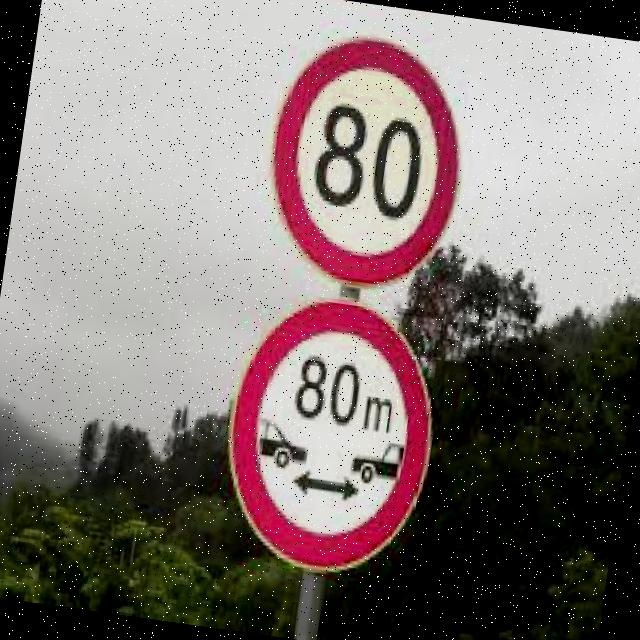Ograniczenie predkosci do 80: (258, 27, 478, 294)
